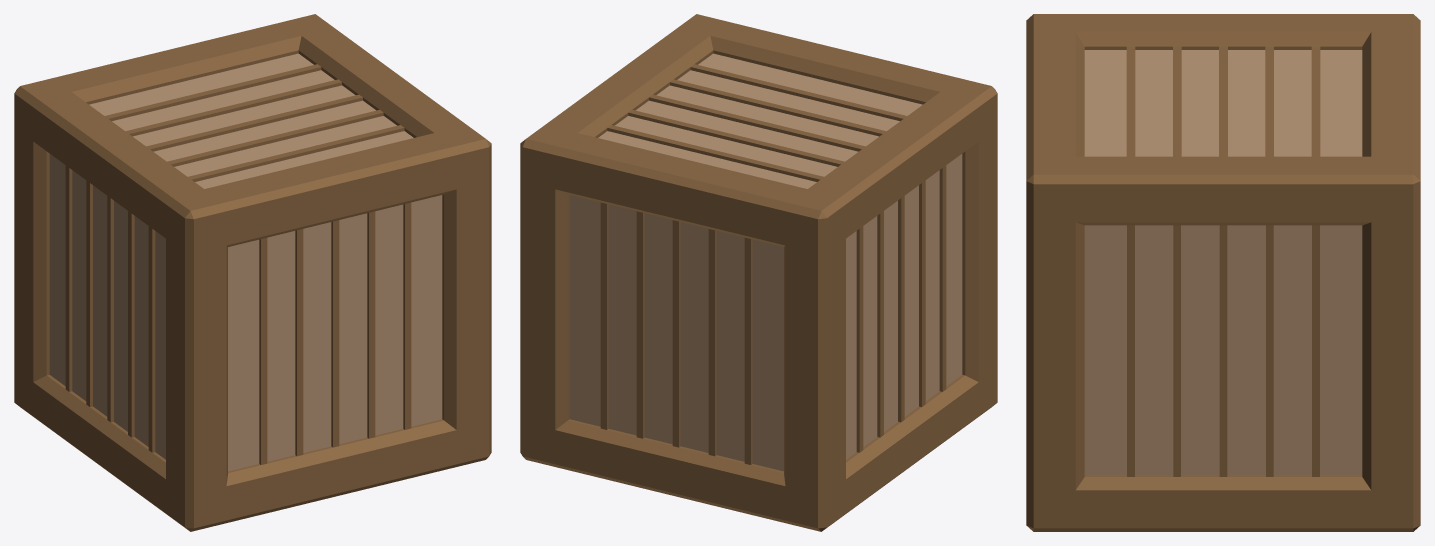
3 views of the same model, side by side, from view 1: azimuth 30°, elevation 25°; view 2: azimuth 150°, elevation 25°; view 3: azimuth 270°, elevation 25° (orthographic). The views are drawn at different scales.
Visible parts, largest first — view 1: Cube.001; view 2: Cube.001; view 3: Cube.001.
Boxes of the visible parts, x1=… form: Cube.001: x1=14, y1=14, x2=491, y2=531; Cube.001: x1=520, y1=14, x2=997, y2=531; Cube.001: x1=1026, y1=14, x2=1420, y2=531.
Size of the model in its own units: 200 by 200 by 200.
